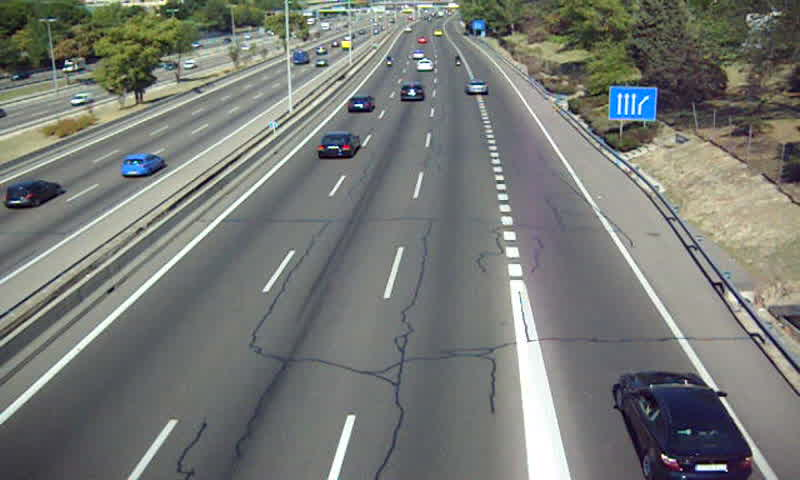car: (617, 371, 753, 480), (315, 132, 359, 160), (399, 82, 424, 102), (347, 95, 373, 114), (465, 80, 489, 96), (415, 57, 434, 72)
motorcycle: (454, 54, 465, 68), (386, 53, 395, 70)
